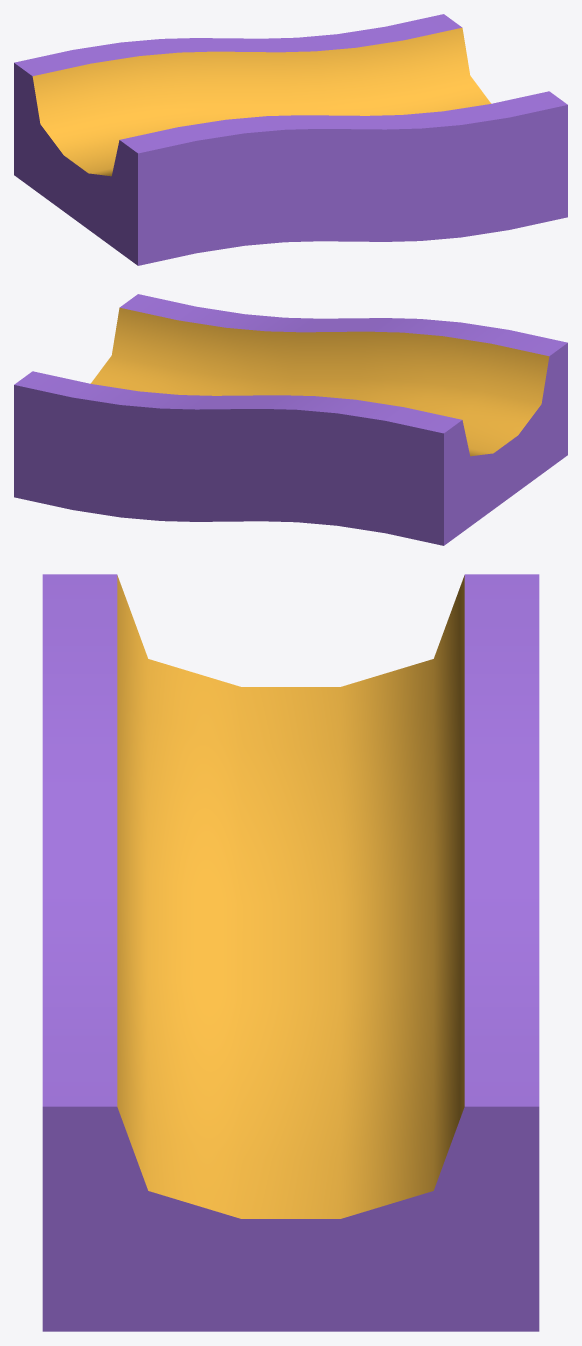
Rendered from ramp-long-a-col.glb.
The picture shows the model from 3 angles, top to bottom: view 1: azimuth 30°, elevation 25°; view 2: azimuth 150°, elevation 25°; view 3: azimuth 270°, elevation 25°; orthographic projection. The views are drawn at different scales.
Parts seen in each view (by area): view 1: ramp-long-a-col; view 2: ramp-long-a-col; view 3: ramp-long-a-col.
Boxes of the visible parts, x1,y1,x2,y2 form: ramp-long-a-col: [14, 14, 567, 265]; ramp-long-a-col: [14, 294, 567, 545]; ramp-long-a-col: [42, 574, 539, 1331].
Size of the model in its own units: 2 by 0.75 by 1.
Materials: 1 (1 with a texture image).
